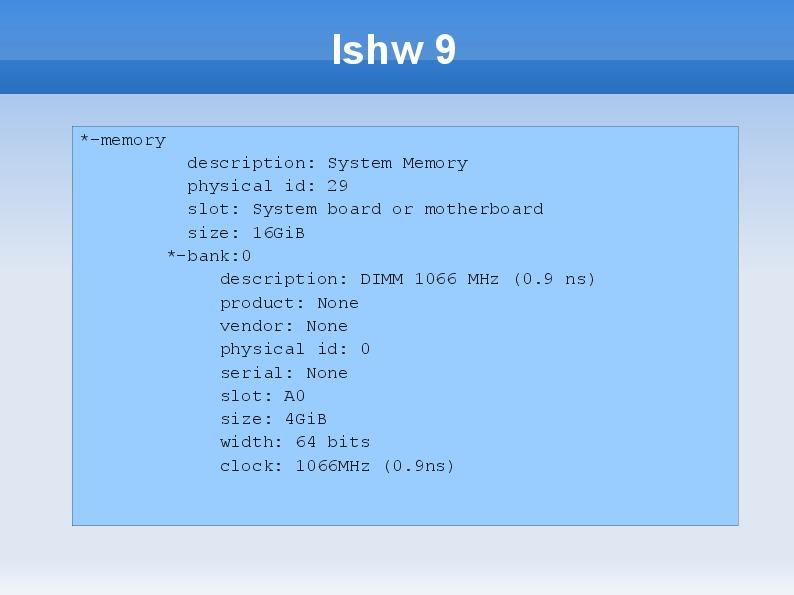paragraph: (77, 126, 647, 506)
title: (315, 13, 469, 84)
